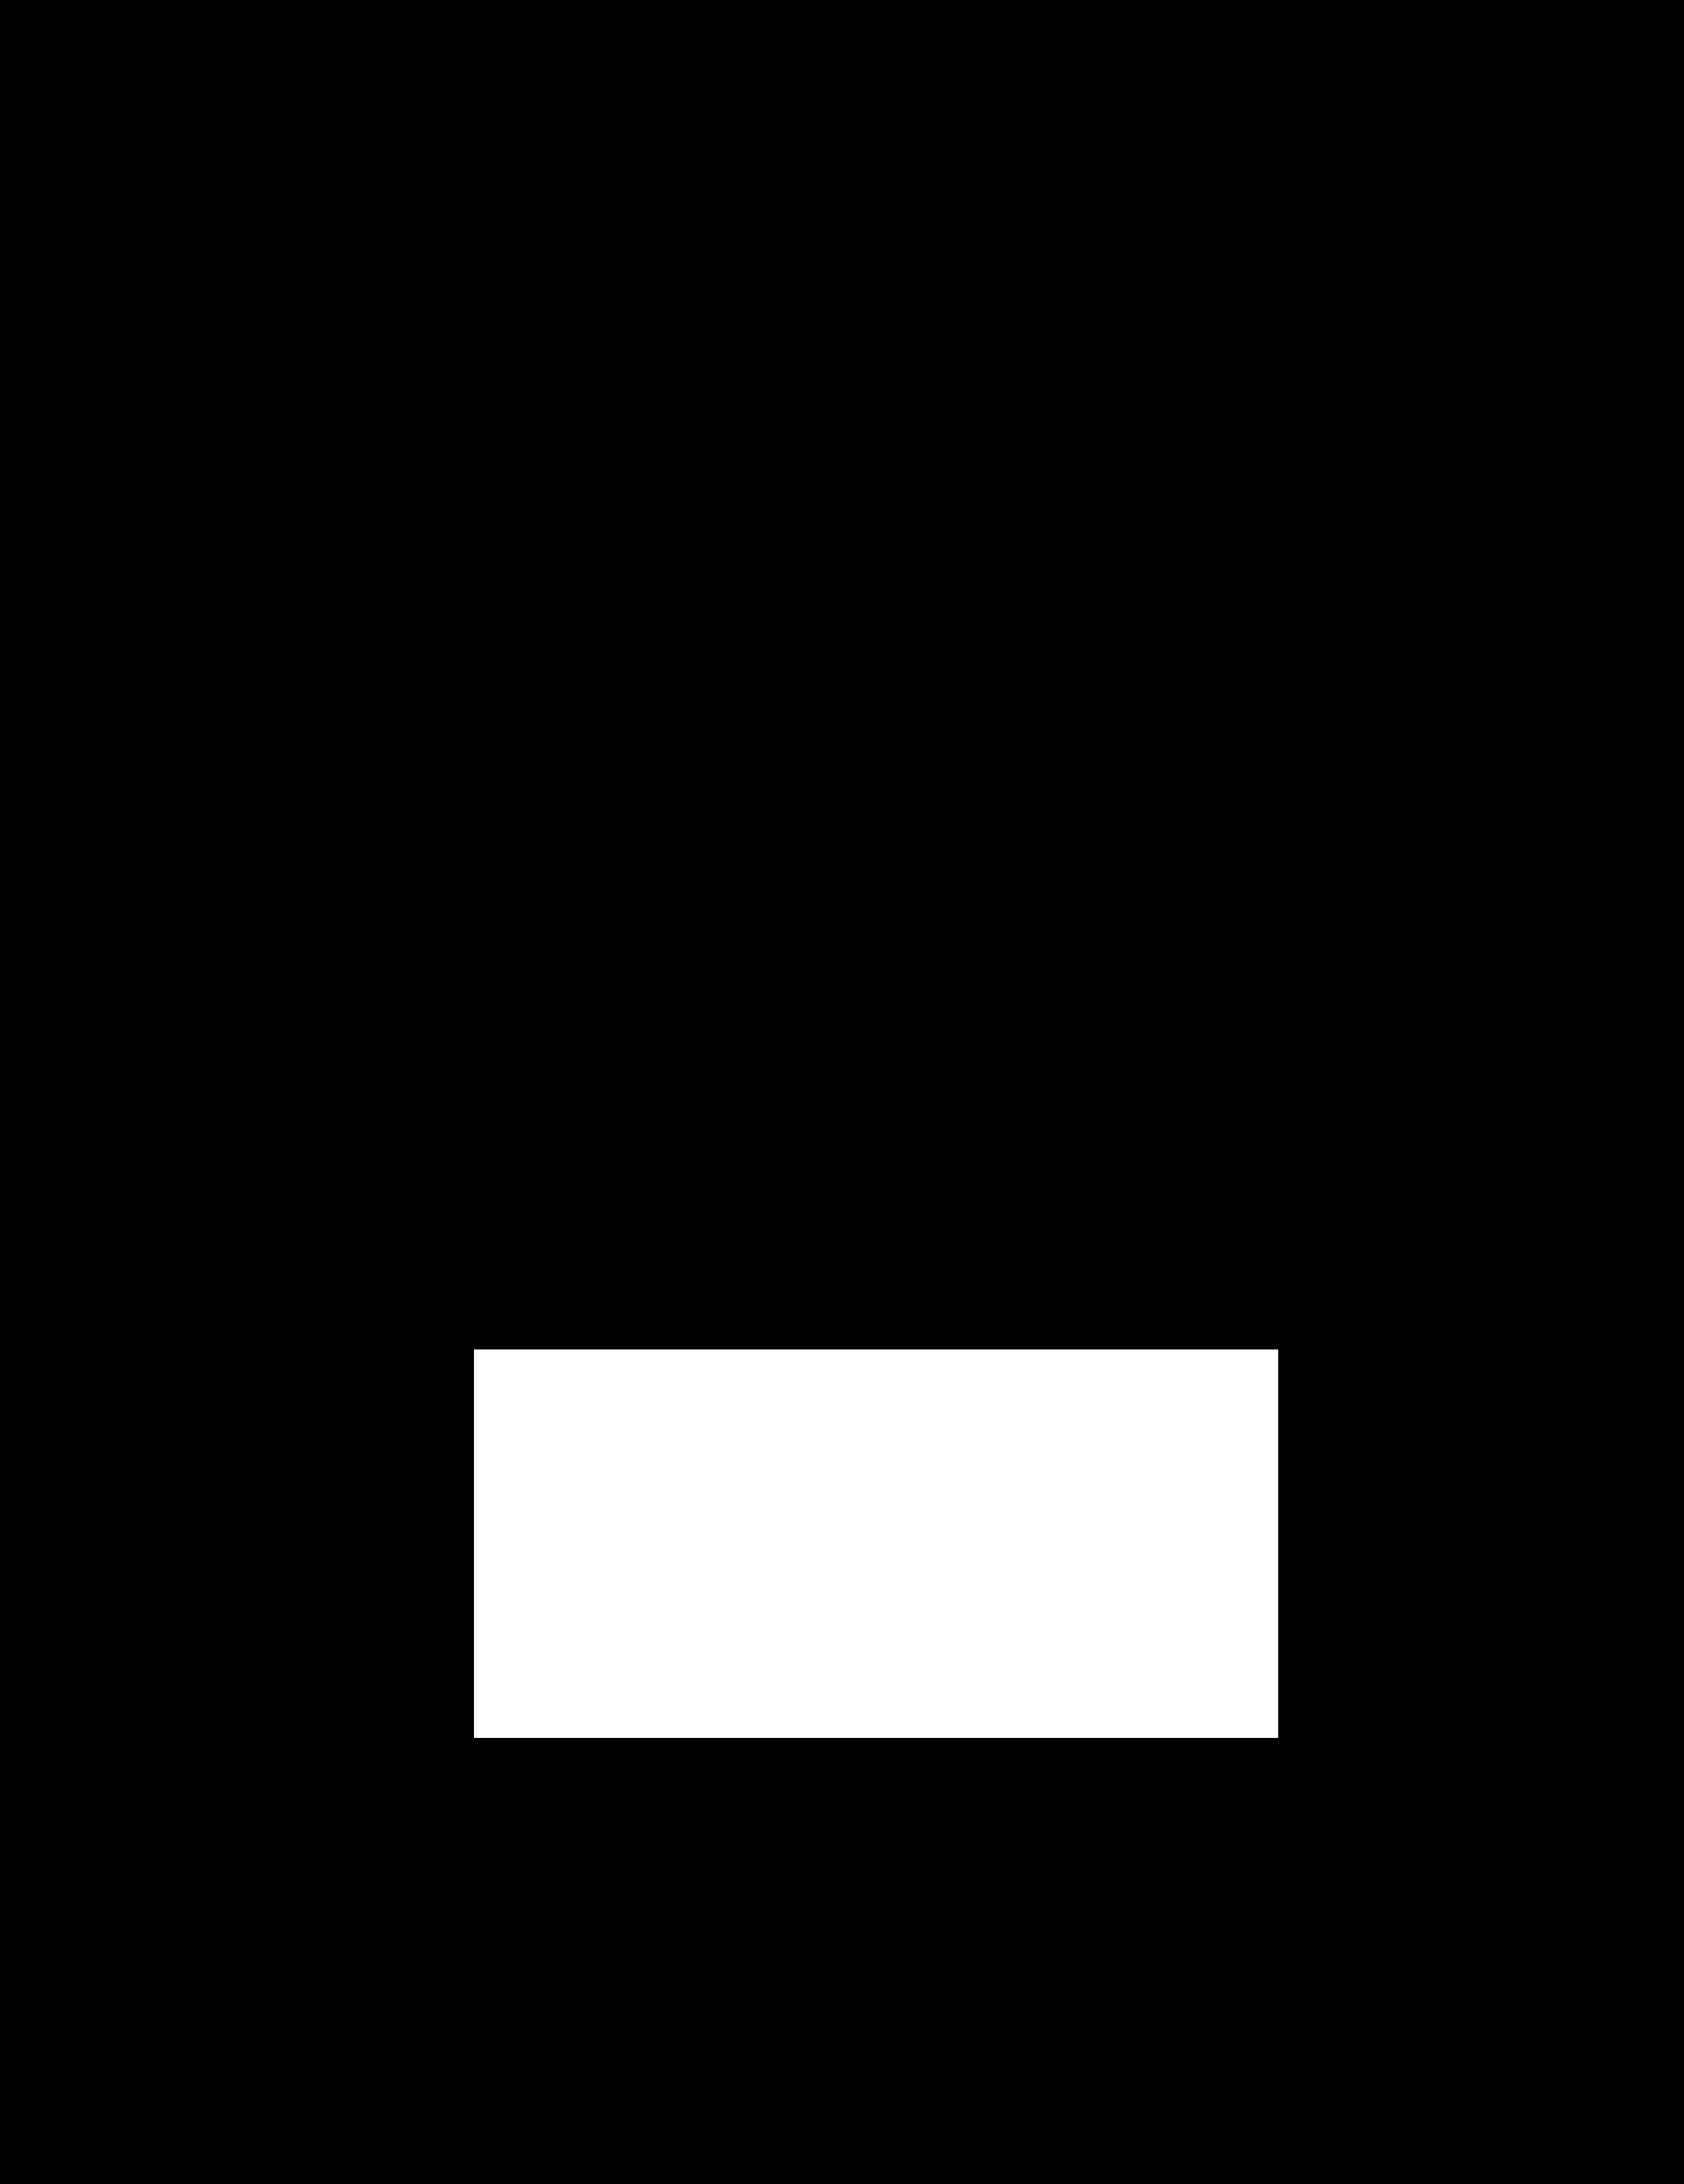table: (474, 1349, 1277, 1737)
